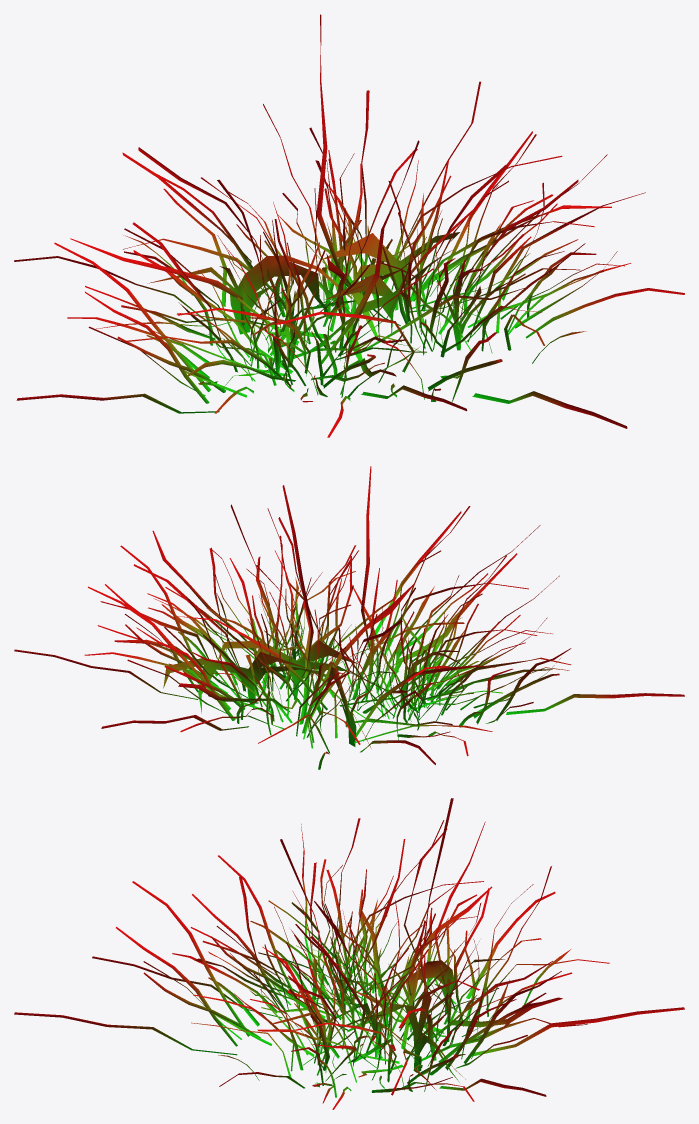
Rendered from Tundra Grass_LOD1_Var24_wk2oaeyqx.fbx.
3 views of the same model, one above another, from view 1: azimuth 30°, elevation 25°; view 2: azimuth 150°, elevation 25°; view 3: azimuth 270°, elevation 25° (orthographic). The views are drawn at different scales.
Parts seen in each view (by area): view 1: _h71k_Var24_LOD1; view 2: _h71k_Var24_LOD1; view 3: _h71k_Var24_LOD1.
Boxes of the visible parts, bbox=[...] form: _h71k_Var24_LOD1: bbox=[14, 14, 684, 437]; _h71k_Var24_LOD1: bbox=[14, 466, 684, 769]; _h71k_Var24_LOD1: bbox=[14, 798, 684, 1109].
Size of the model in its own units: 56.2 by 24.11 by 58.65.
